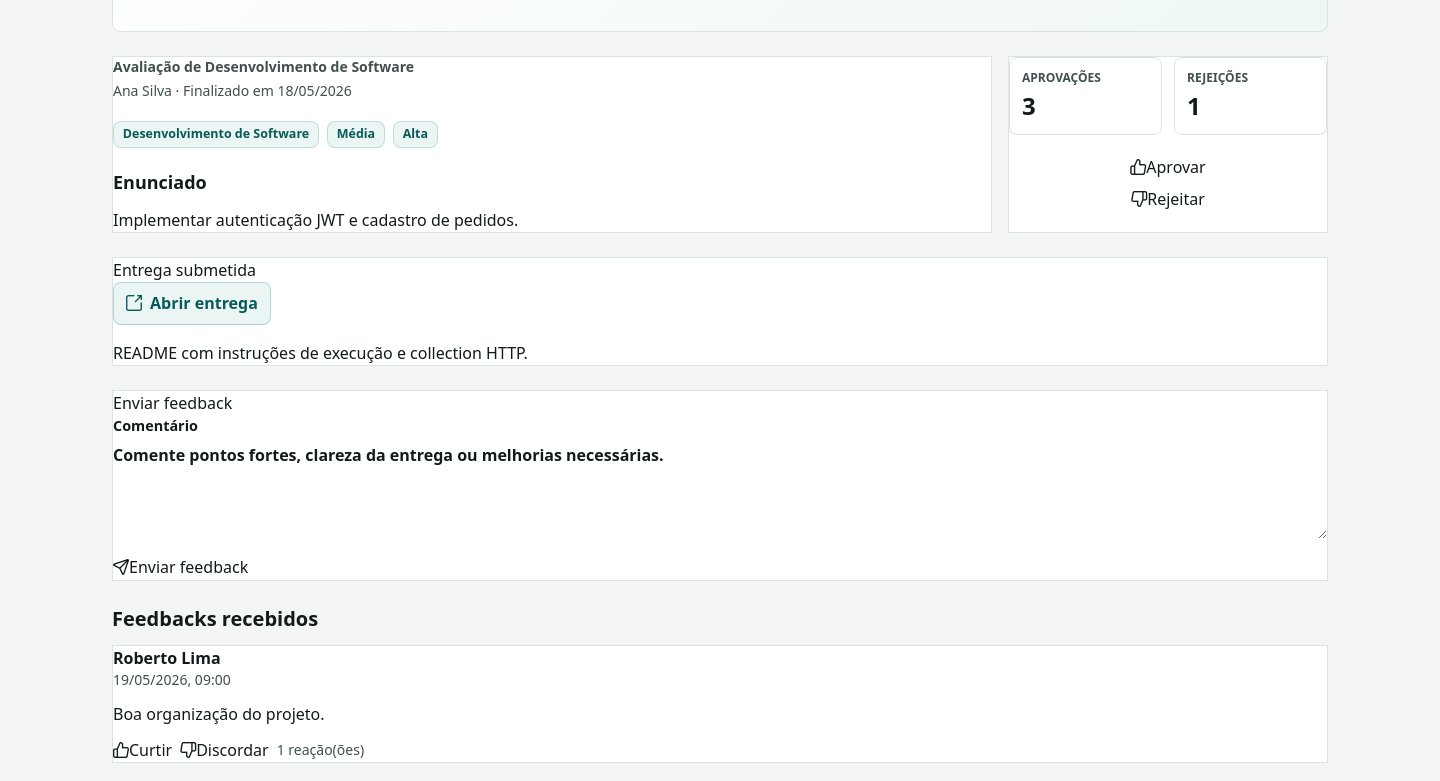
Test case: MiniProjectPublicDetailView › submits feedback and reloads details
This screenshot has width=1440, height=781.
(page scrolled)
Replace the text in the text box with test id "mini-project-feedback-comment" with "Entrega clara e bem documentada.". click: (720, 491)
box: [113,443,1327,539]
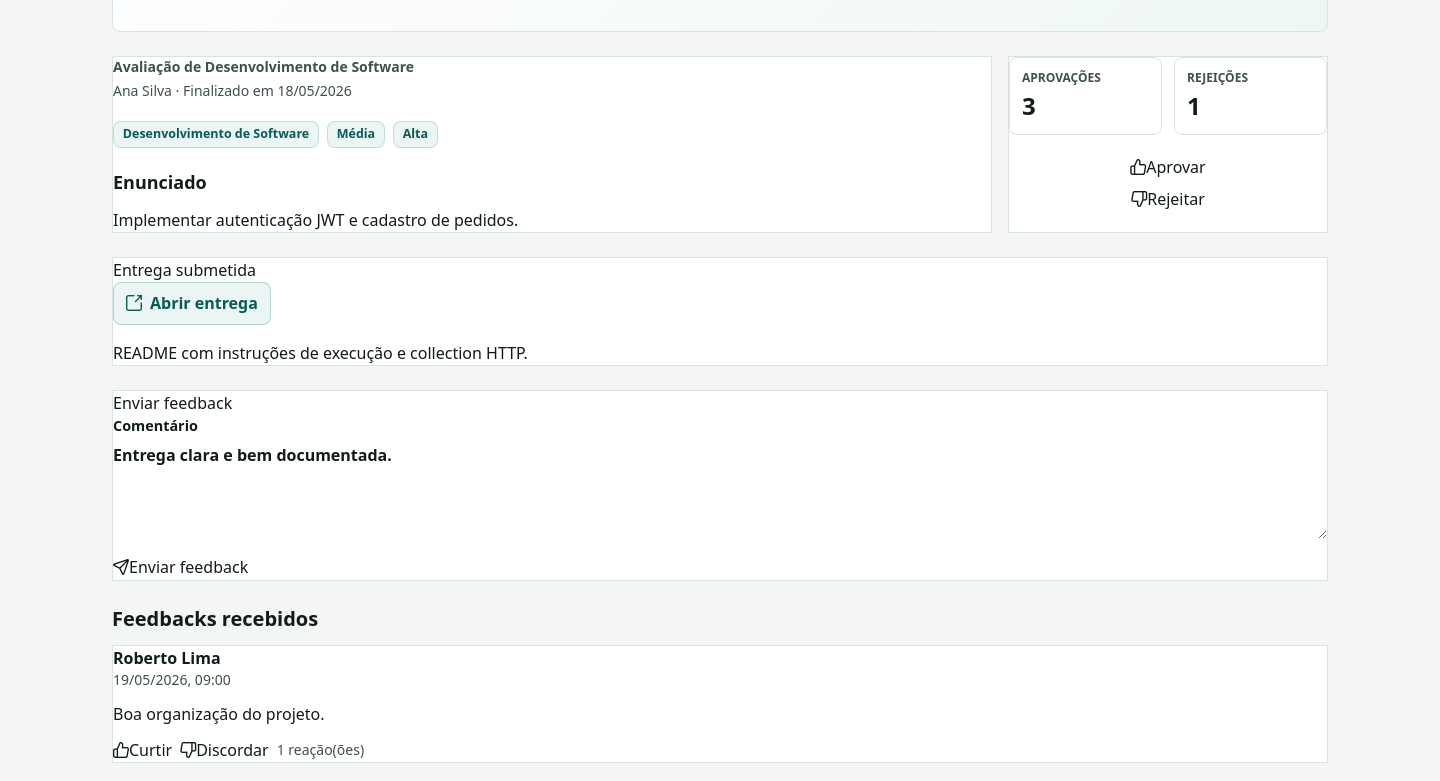
Click the button with test id "send-mini-project-feedback". click: (181, 567)
box: [113,555,248,579]
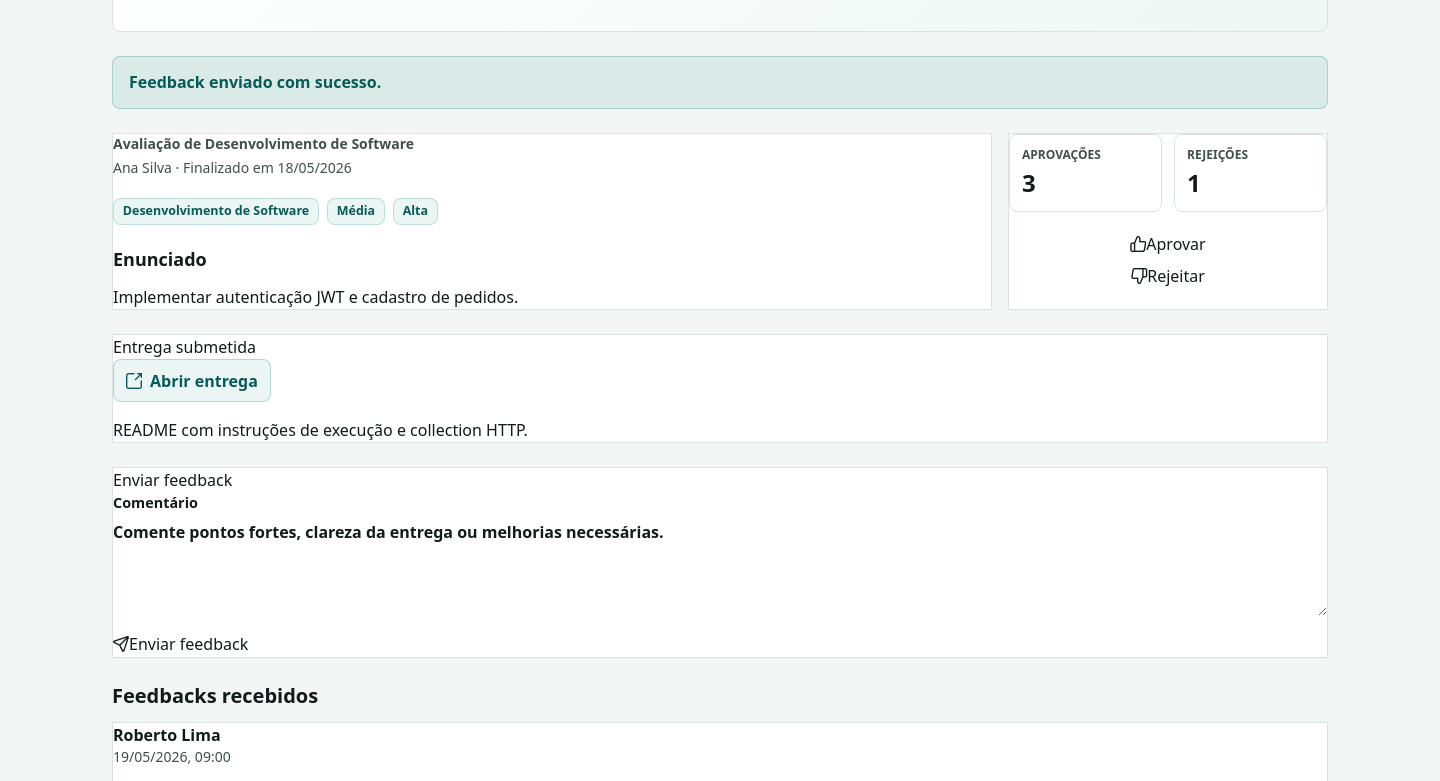
Now the text "Feedback enviado com sucesso." is shown, box [112,56,1328,109]
